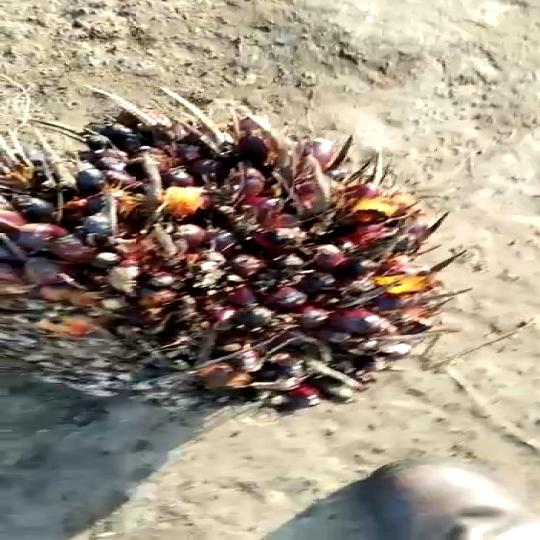masak: (0, 100, 434, 446)
